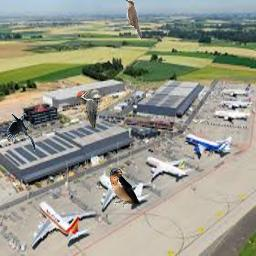Crow: (6, 112, 35, 152)
Cuckoo: (126, 0, 142, 40)
Swallow: (110, 168, 140, 208)
Woodpecker: (77, 89, 98, 129)
